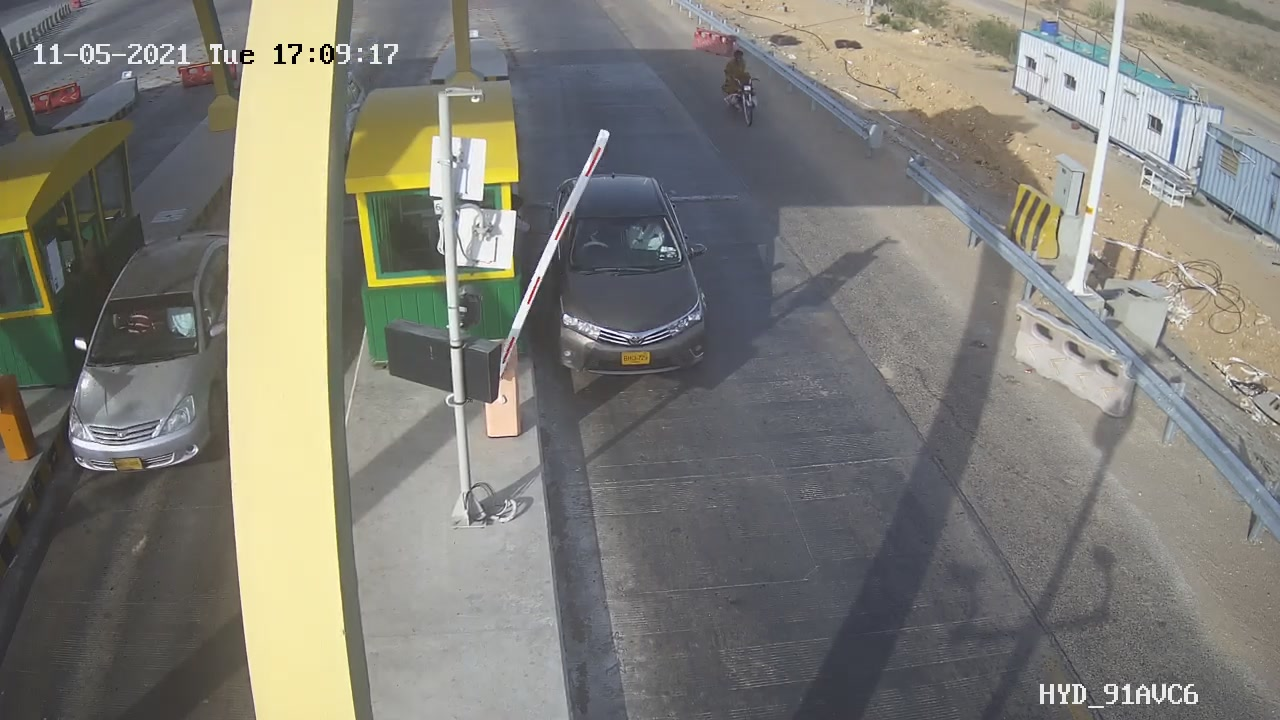F1: (525, 152, 738, 399)
